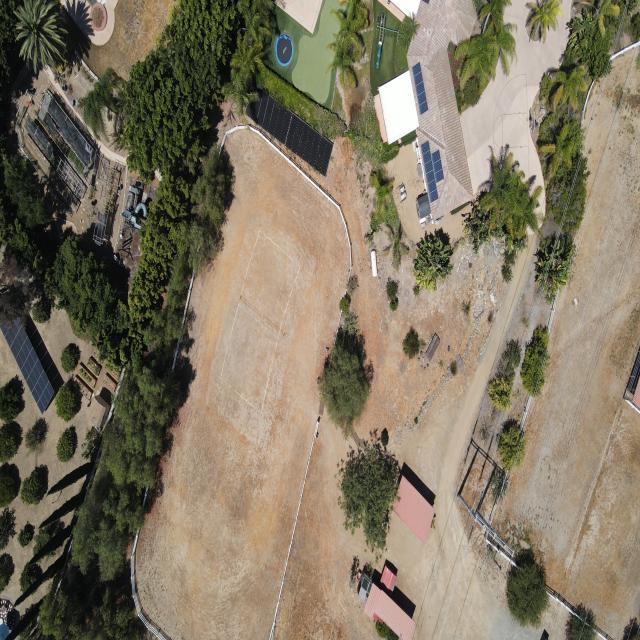solar-panels: (235, 81, 344, 177), (420, 138, 448, 204), (411, 62, 429, 115)
